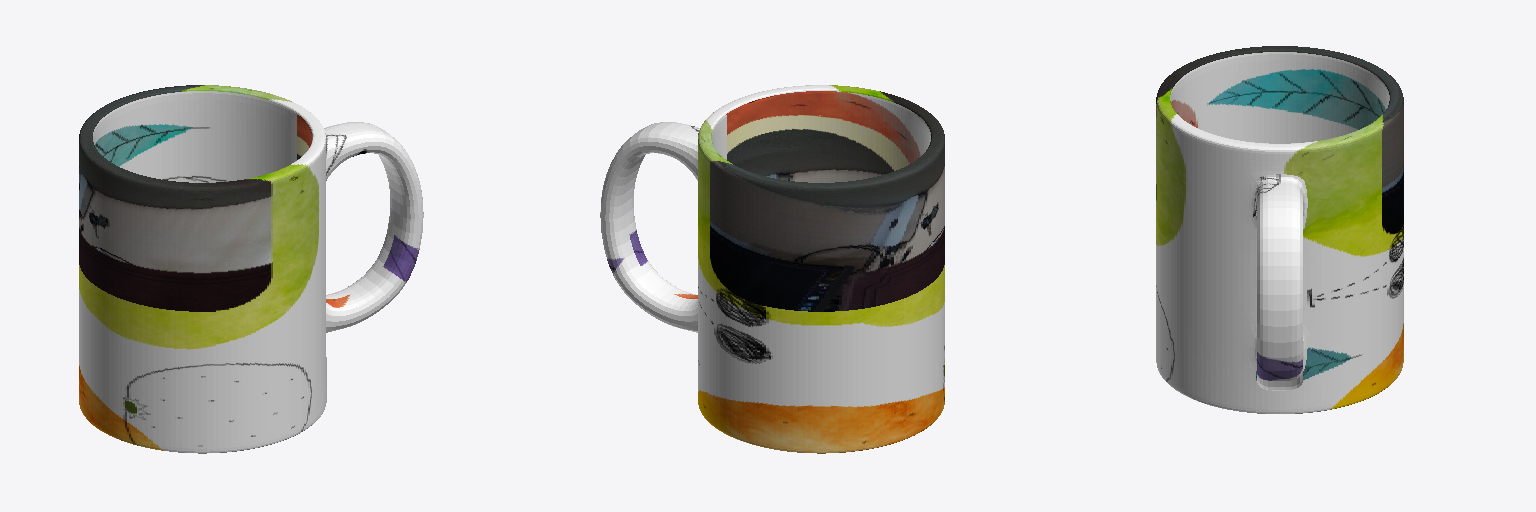
3 renders of one model, left to right at view 1: azimuth 30°, elevation 25°; view 2: azimuth 150°, elevation 25°; view 3: azimuth 270°, elevation 25°, orthographic.
Parts seen in each view (by area): view 1: Mug_Cylinder.002; view 2: Mug_Cylinder.002; view 3: Mug_Cylinder.002.
Part boxes in pixels (x1,y1,x2,y2): Mug_Cylinder.002: (79,85,423,453); Mug_Cylinder.002: (600,85,944,453); Mug_Cylinder.002: (1156,46,1403,413).
Bounding box in the file's own units: 0.1895 × 0.1502 × 0.1265.
Materials: 1 (1 with a texture image).